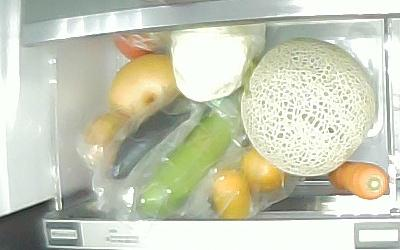cabbage: (170, 22, 266, 103)
carrot: (328, 161, 387, 200)
eggplant_vinyl: (112, 94, 193, 179)
melon: (241, 39, 377, 176)
pear: (109, 52, 180, 117)
tangerine_vinyl: (210, 169, 252, 219), (243, 149, 284, 192)
zucchini_vinyl: (133, 101, 235, 219)
